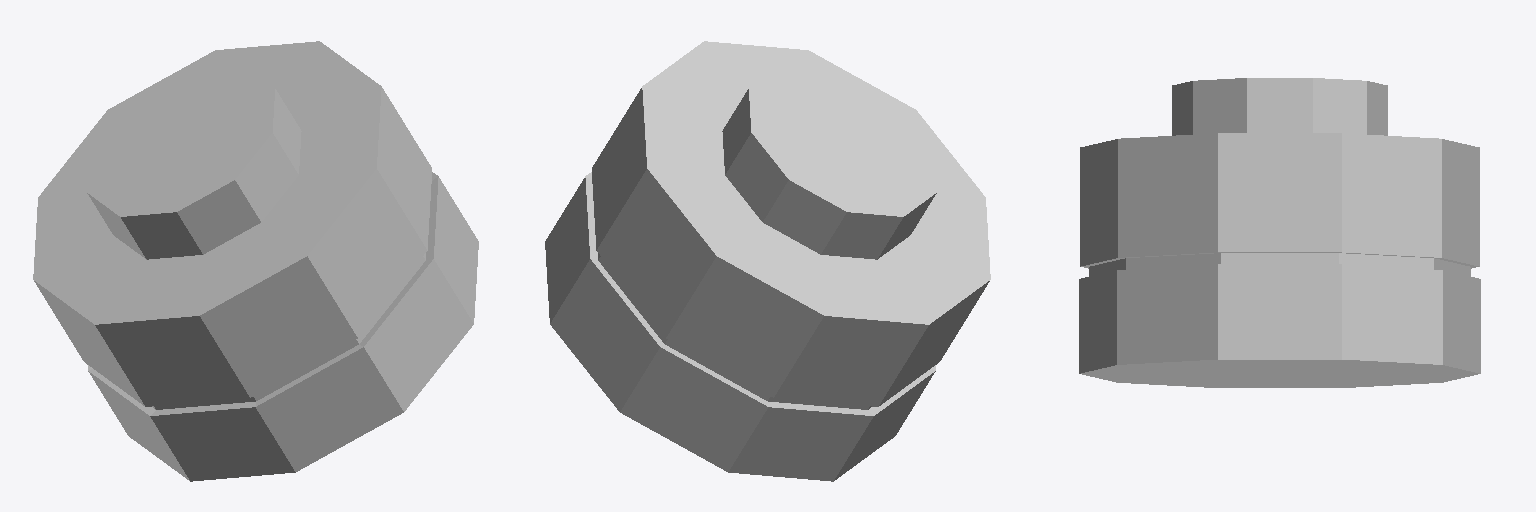
The model's file is Gas Mask Filter.obj.
3 views of the same model, side by side, from view 1: azimuth 30°, elevation 25°; view 2: azimuth 150°, elevation 25°; view 3: azimuth 270°, elevation 25° (orthographic).
Visible parts, largest first — view 1: Filter_Cylinder; view 2: Filter_Cylinder; view 3: Filter_Cylinder.
Part boxes in pixels (x1,y1,x2,y2): Filter_Cylinder: (33,41,478,481); Filter_Cylinder: (545,41,990,481); Filter_Cylinder: (1079,78,1480,387).
Size of the model in its own units: 2.87 by 2.56 by 2.6.